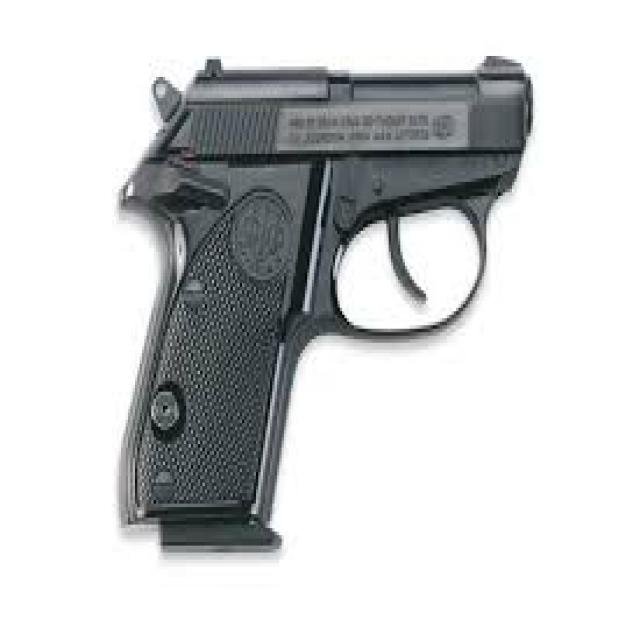pistol: (111, 51, 547, 566)
